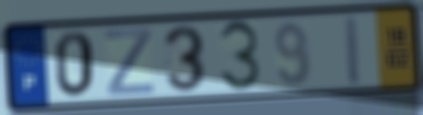0: (52, 29, 95, 100)
3: (216, 17, 263, 95), (160, 24, 207, 95)
9: (272, 19, 313, 88)
I: (342, 13, 365, 89)
Z: (101, 26, 156, 98)
